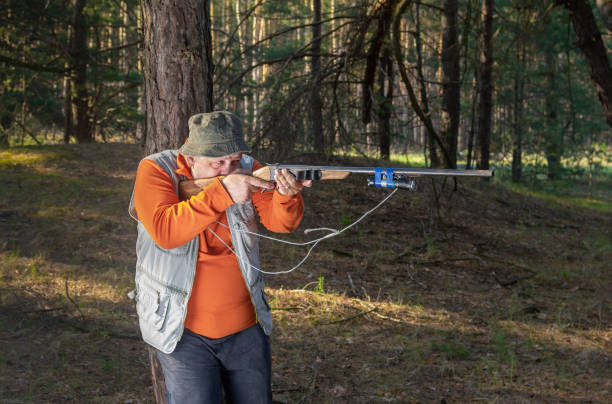gun: (178, 164, 494, 202)
